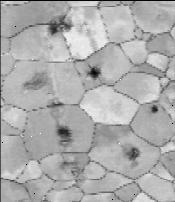good_void: (22, 68, 54, 95), (45, 15, 74, 37), (57, 155, 83, 179), (54, 124, 74, 145), (86, 63, 101, 79), (127, 143, 141, 159), (45, 100, 65, 109), (150, 101, 159, 115), (151, 11, 162, 20)
